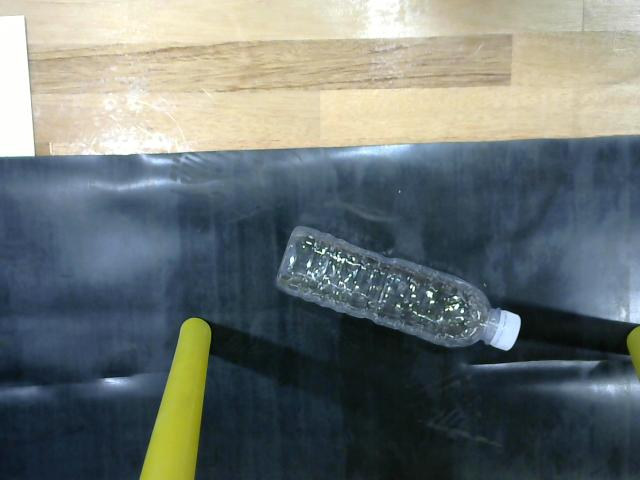bottle: (263, 226, 534, 363)
